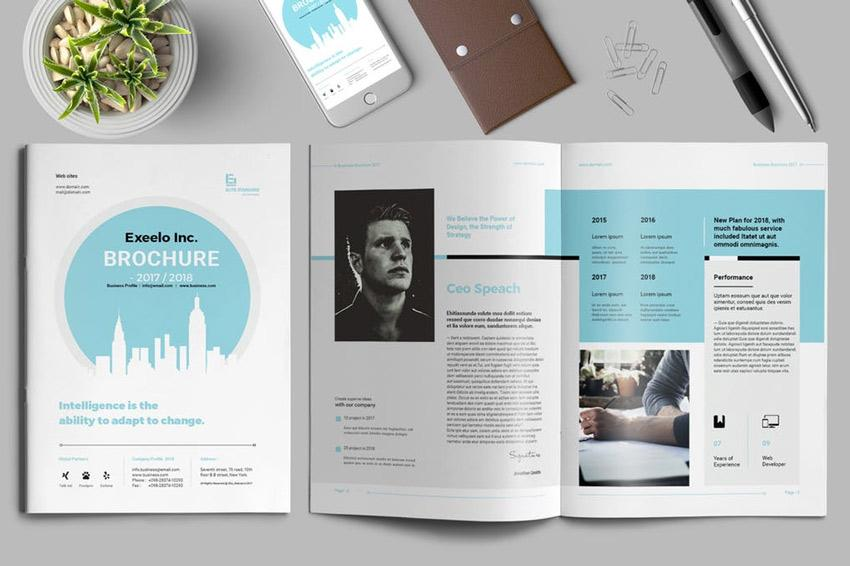paper: (311, 140, 829, 522), (25, 144, 289, 513)
